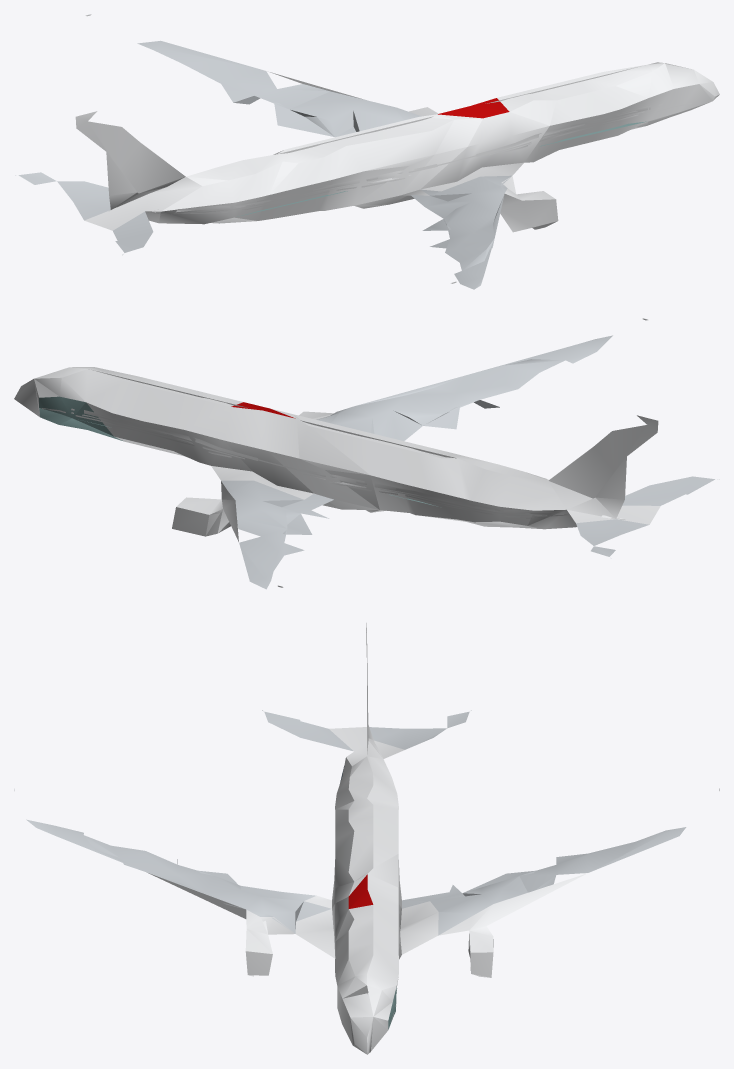
3 renders of one model, top to bottom at view 1: azimuth 30°, elevation 25°; view 2: azimuth 150°, elevation 25°; view 3: azimuth 270°, elevation 25°, orthographic. The views are drawn at different scales.
Parts seen in each view (by area): view 1: hull, wing, tail, engine, band-cheatline, cbf0000, band-belly-trim, band-cheatline-trim, band-tailcone-trim; view 2: hull, wing, tail, engine, c809f9f, band-cheatline, band-belly-trim, band-cheatline-trim, band-tailcone-trim; view 3: hull, wing, engine, tail.
Part boxes in pixels (left/top/right/bottom): hull: left=84, top=62, right=719, bottom=230; wing: left=15, top=14, right=511, bottom=289; tail: left=75, top=14, right=644, bottom=283; engine: left=270, top=72, right=558, bottom=232; band-cheatline: left=110, top=105, right=650, bottom=212; cbf0000: left=438, top=98, right=509, bottom=118; band-belly-trim: left=145, top=103, right=691, bottom=214; band-cheatline-trim: left=170, top=107, right=662, bottom=214; band-tailcone-trim: left=234, top=104, right=662, bottom=207; hull: left=14, top=367, right=660, bottom=529; wing: left=221, top=318, right=719, bottom=589; tail: left=93, top=318, right=658, bottom=587; engine: left=172, top=411, right=333, bottom=541; c809f9f: left=39, top=396, right=437, bottom=506; band-cheatline: left=84, top=410, right=624, bottom=519; band-belly-trim: left=42, top=408, right=569, bottom=518; band-cheatline-trim: left=71, top=412, right=569, bottom=516; band-tailcone-trim: left=71, top=408, right=500, bottom=511; hull: left=295, top=725, right=438, bottom=1054; wing: left=14, top=710, right=719, bottom=935; engine: left=148, top=873, right=587, bottom=977; tail: left=349, top=623, right=396, bottom=798.
Bounding box in the file's own units: 66.7 × 16.6 × 64.75.
